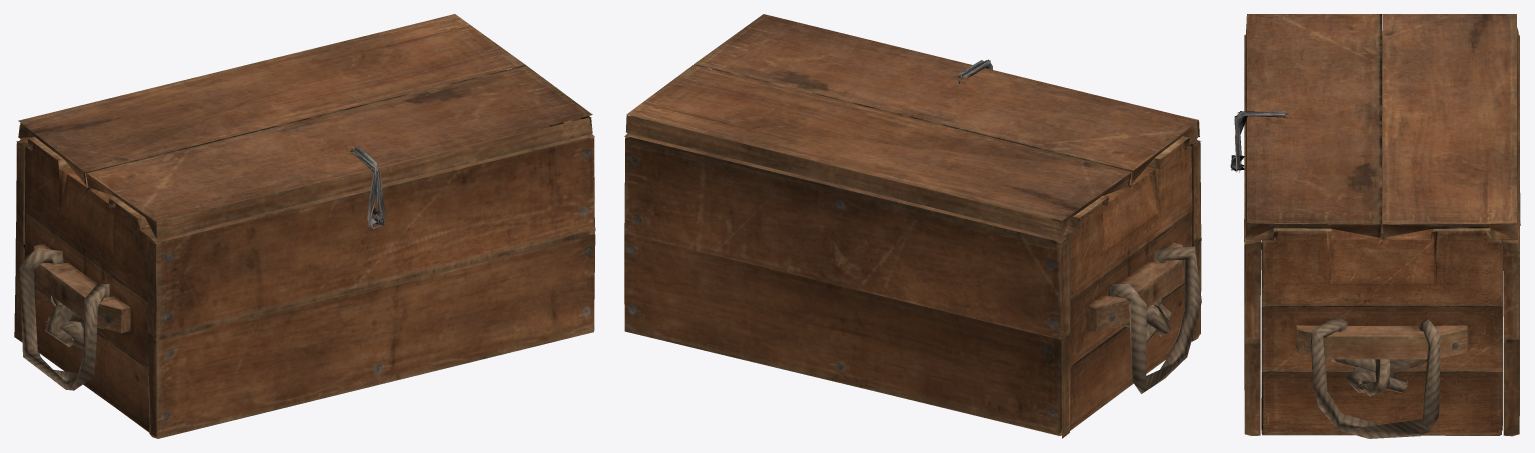
Rendered from ph_wooden_crate.fbx.
3 renders of one model, left to right at view 1: azimuth 30°, elevation 25°; view 2: azimuth 150°, elevation 25°; view 3: azimuth 270°, elevation 25°, orthographic. The views are drawn at different scales.
Parts seen in each view (by area): view 1: ph_wooden_crate_LOD0; view 2: ph_wooden_crate_LOD0; view 3: ph_wooden_crate_LOD0.
Part boxes in pixels (box(x1,y1,x2,y2)): ph_wooden_crate_LOD0: box(14, 14, 595, 438); ph_wooden_crate_LOD0: box(624, 14, 1201, 438); ph_wooden_crate_LOD0: box(1230, 14, 1520, 438).
Size of what is drawn, in the model's own units: 0.8268 by 0.3425 by 0.4075.
Materials: 1 (1 with a texture image).
